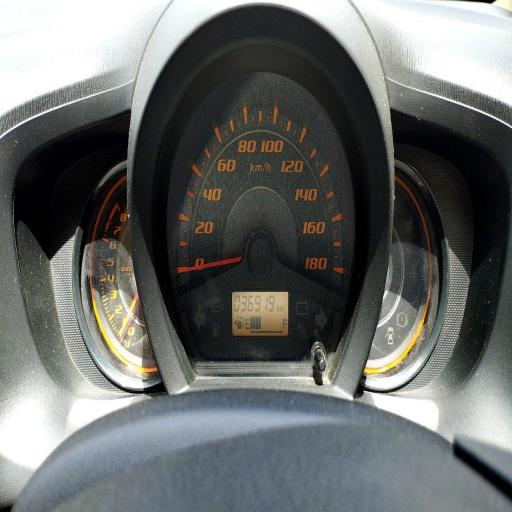tachometer: (90, 174, 160, 376)
